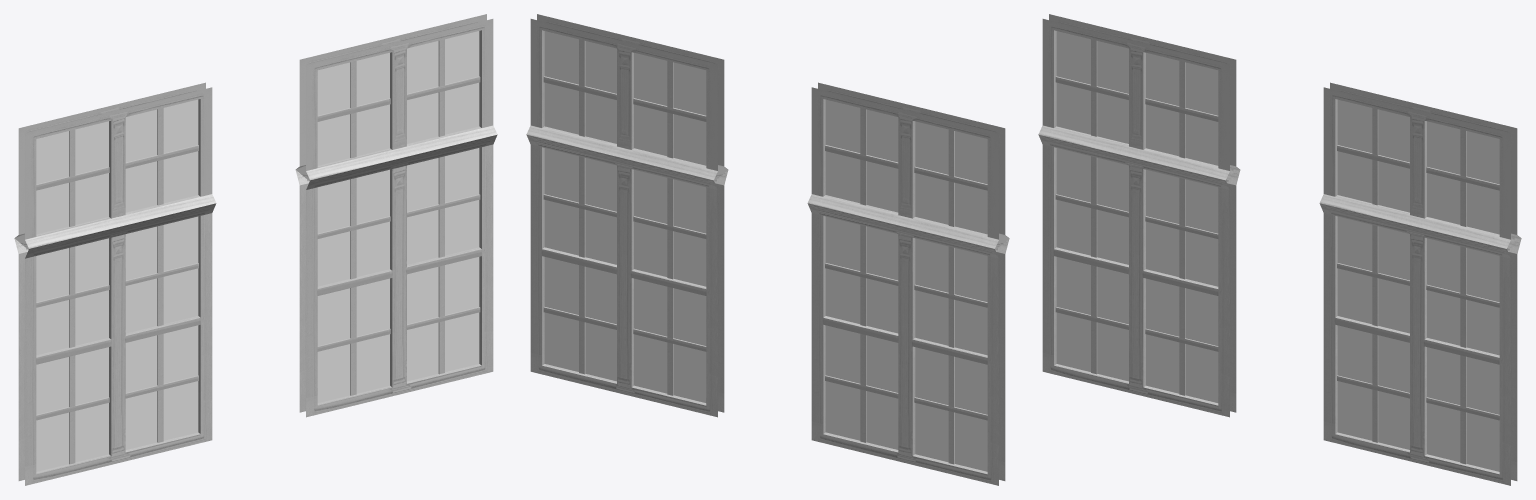
The model's file is Window2doubleB.fbx.
3 renders of one model, left to right at view 1: azimuth 30°, elevation 25°; view 2: azimuth 150°, elevation 25°; view 3: azimuth 330°, elevation 25°, orthographic.
Visible parts, largest first — view 1: Window2doubleB; view 2: Window2doubleB; view 3: Window2doubleB.
Boxes of the visible parts, bbox=[...] form: Window2doubleB: bbox=[14, 14, 497, 485]; Window2doubleB: bbox=[526, 14, 1009, 485]; Window2doubleB: bbox=[1038, 14, 1521, 485].
Size of the model in its own units: 250 by 180 by 13.57.
